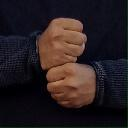hand: (36, 17, 87, 69), (46, 62, 97, 109)
